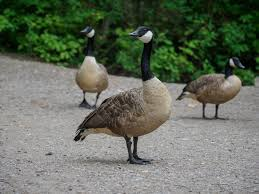goose: (75, 26, 174, 166), (173, 53, 249, 121), (73, 27, 108, 109)
